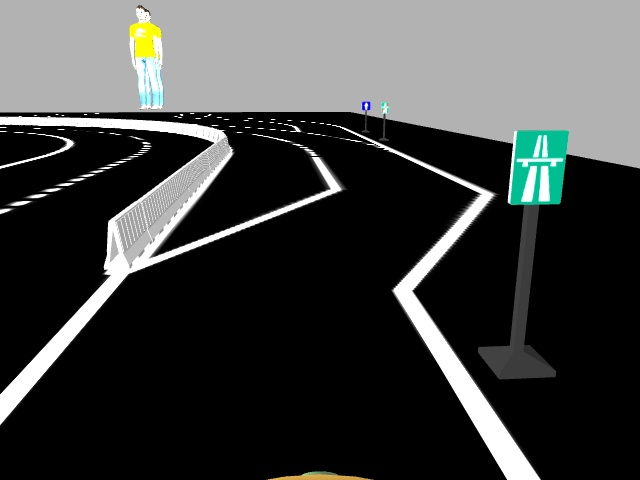HighwayEntrance: (504, 129, 566, 205)
